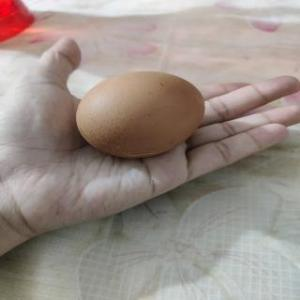egg: (76, 69, 210, 161)
